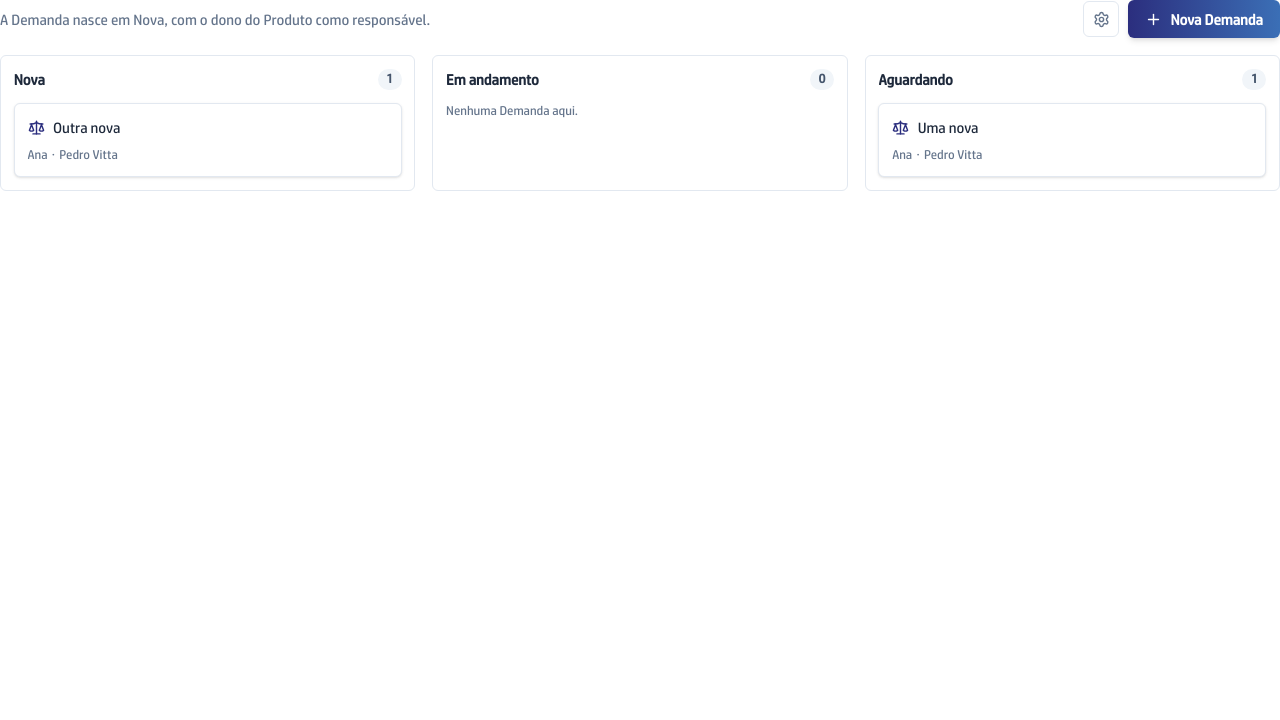
Test: Mover, Concluir e Cancelar no card aberto › Cancelar usa a rota de mover, e a Demanda some do Quadro na hora
Step 1. Click the button "Uma nova" → (948,127), box [892,117,1252,138]
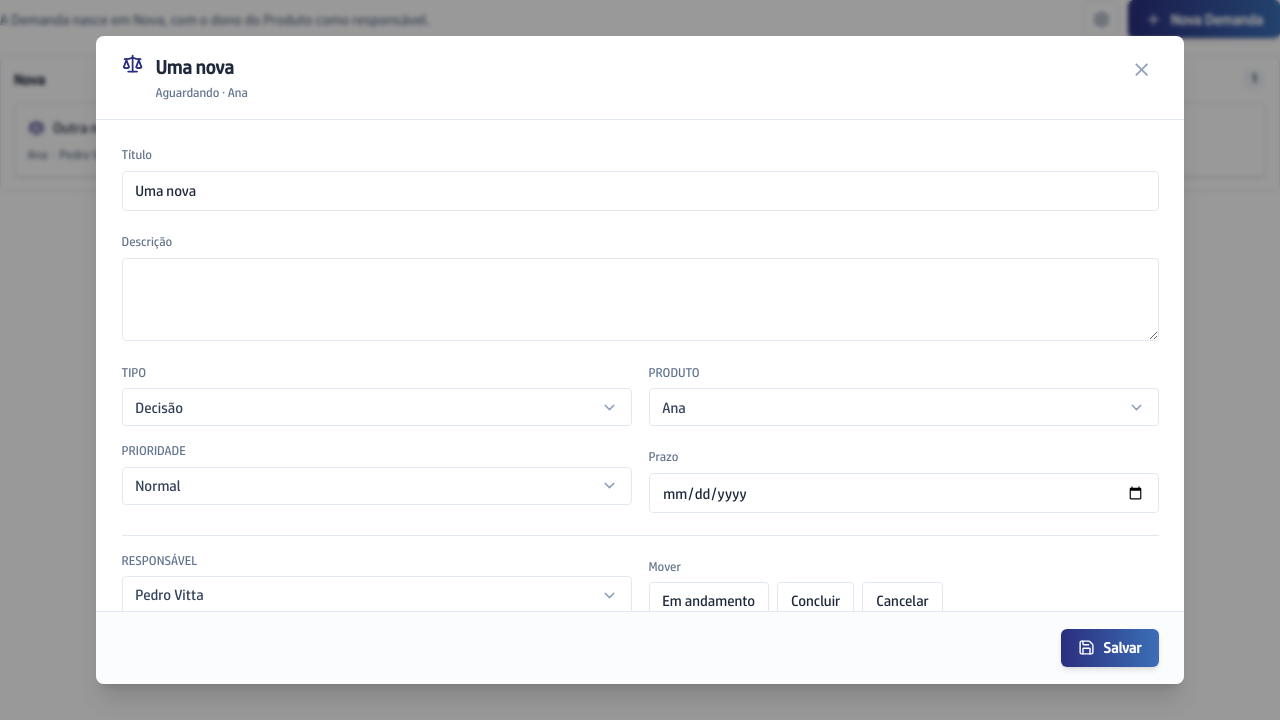
Step 2. Click the button with aria-label "Cancelar a Demanda" → (902,600), box [862,582,942,618]
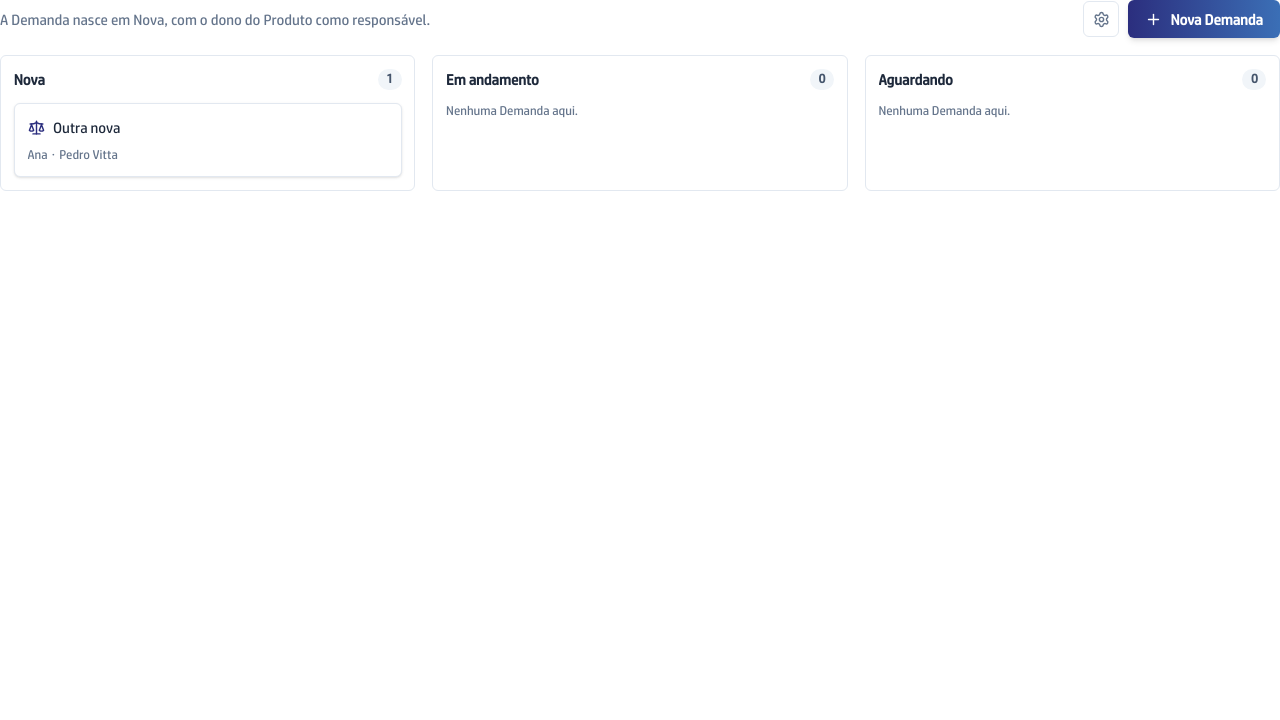
Expected: the text "Outra nova" is shown, [53,117,120,138]
Now the dialog is gone
Now the button "Uma nova" is gone
